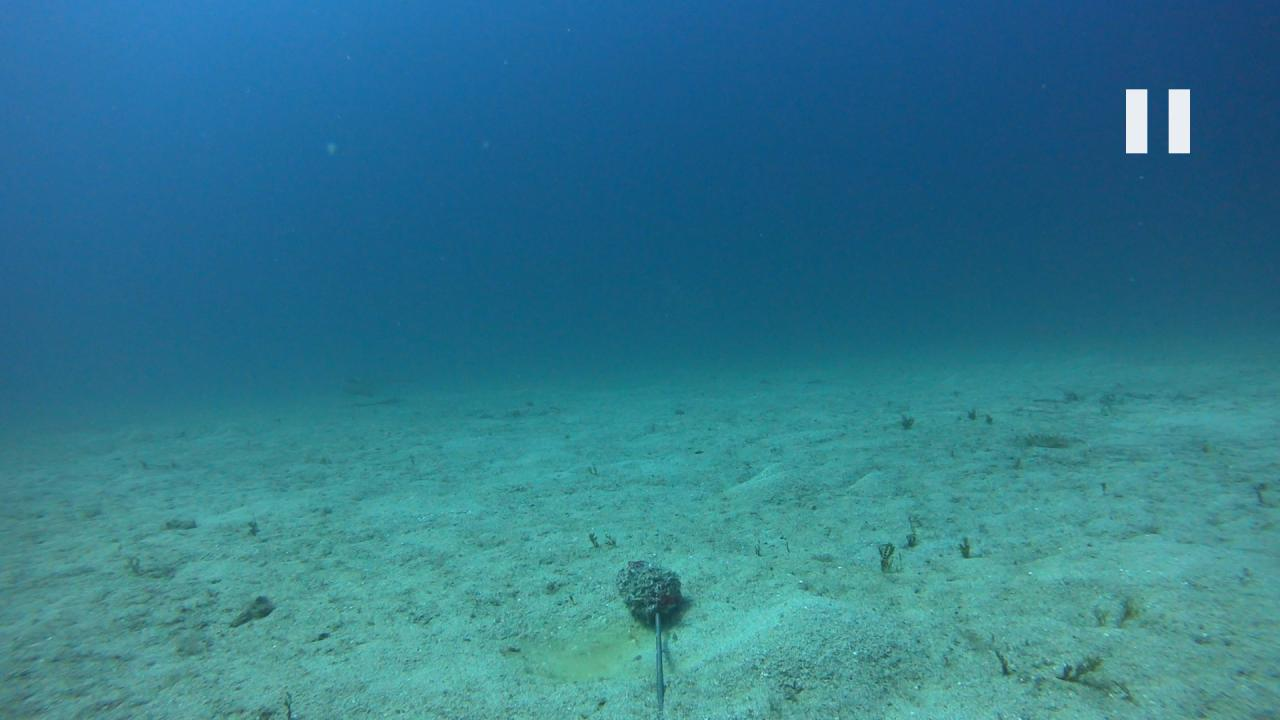dasyatis: (341, 374, 423, 397)
